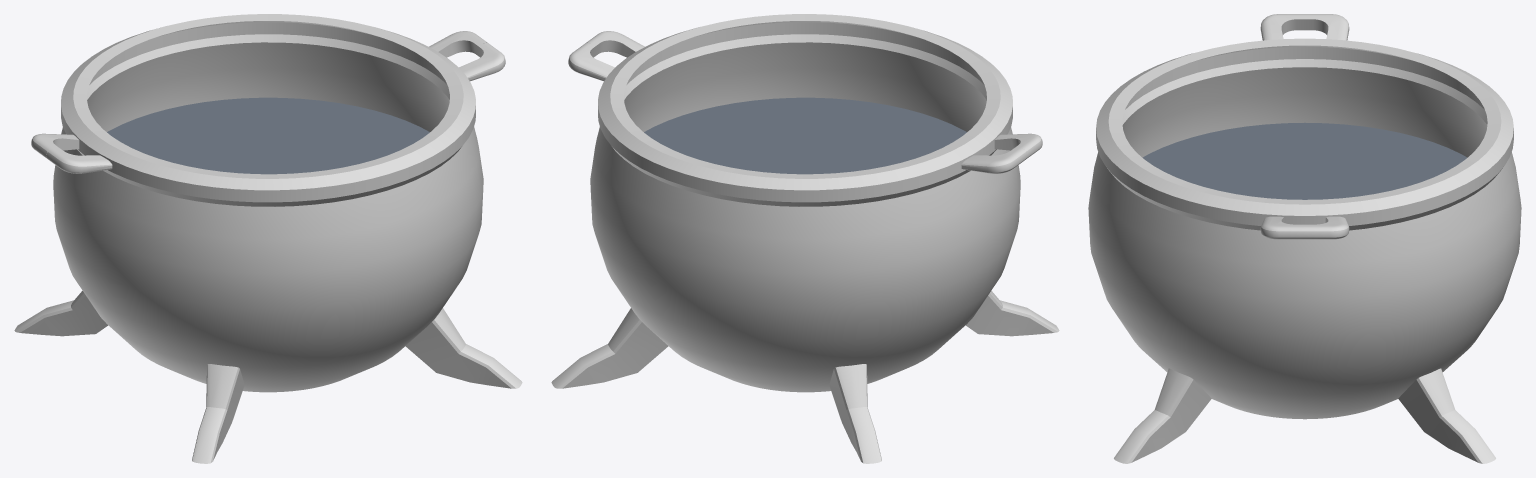
The model's file is kotel.fbx.
3 renders of one model, left to right at view 1: azimuth 30°, elevation 25°; view 2: azimuth 150°, elevation 25°; view 3: azimuth 270°, elevation 25°, orthographic.
Visible parts, largest first — view 1: kotel, voda, stuff; view 2: kotel, voda, stuff; view 3: kotel, voda, stuff.
Part boxes in pixels (bbox=[...]): kotel: bbox=[53, 14, 483, 392]; voda: bbox=[107, 97, 429, 174]; stuff: bbox=[14, 31, 522, 463]; kotel: bbox=[590, 14, 1020, 392]; voda: bbox=[644, 97, 966, 174]; stuff: bbox=[551, 31, 1059, 463]; kotel: bbox=[1088, 38, 1521, 419]; voda: bbox=[1142, 122, 1467, 199]; stuff: bbox=[1114, 14, 1495, 463].
Bounding box in the file's own units: 1195 × 671 × 1004.
